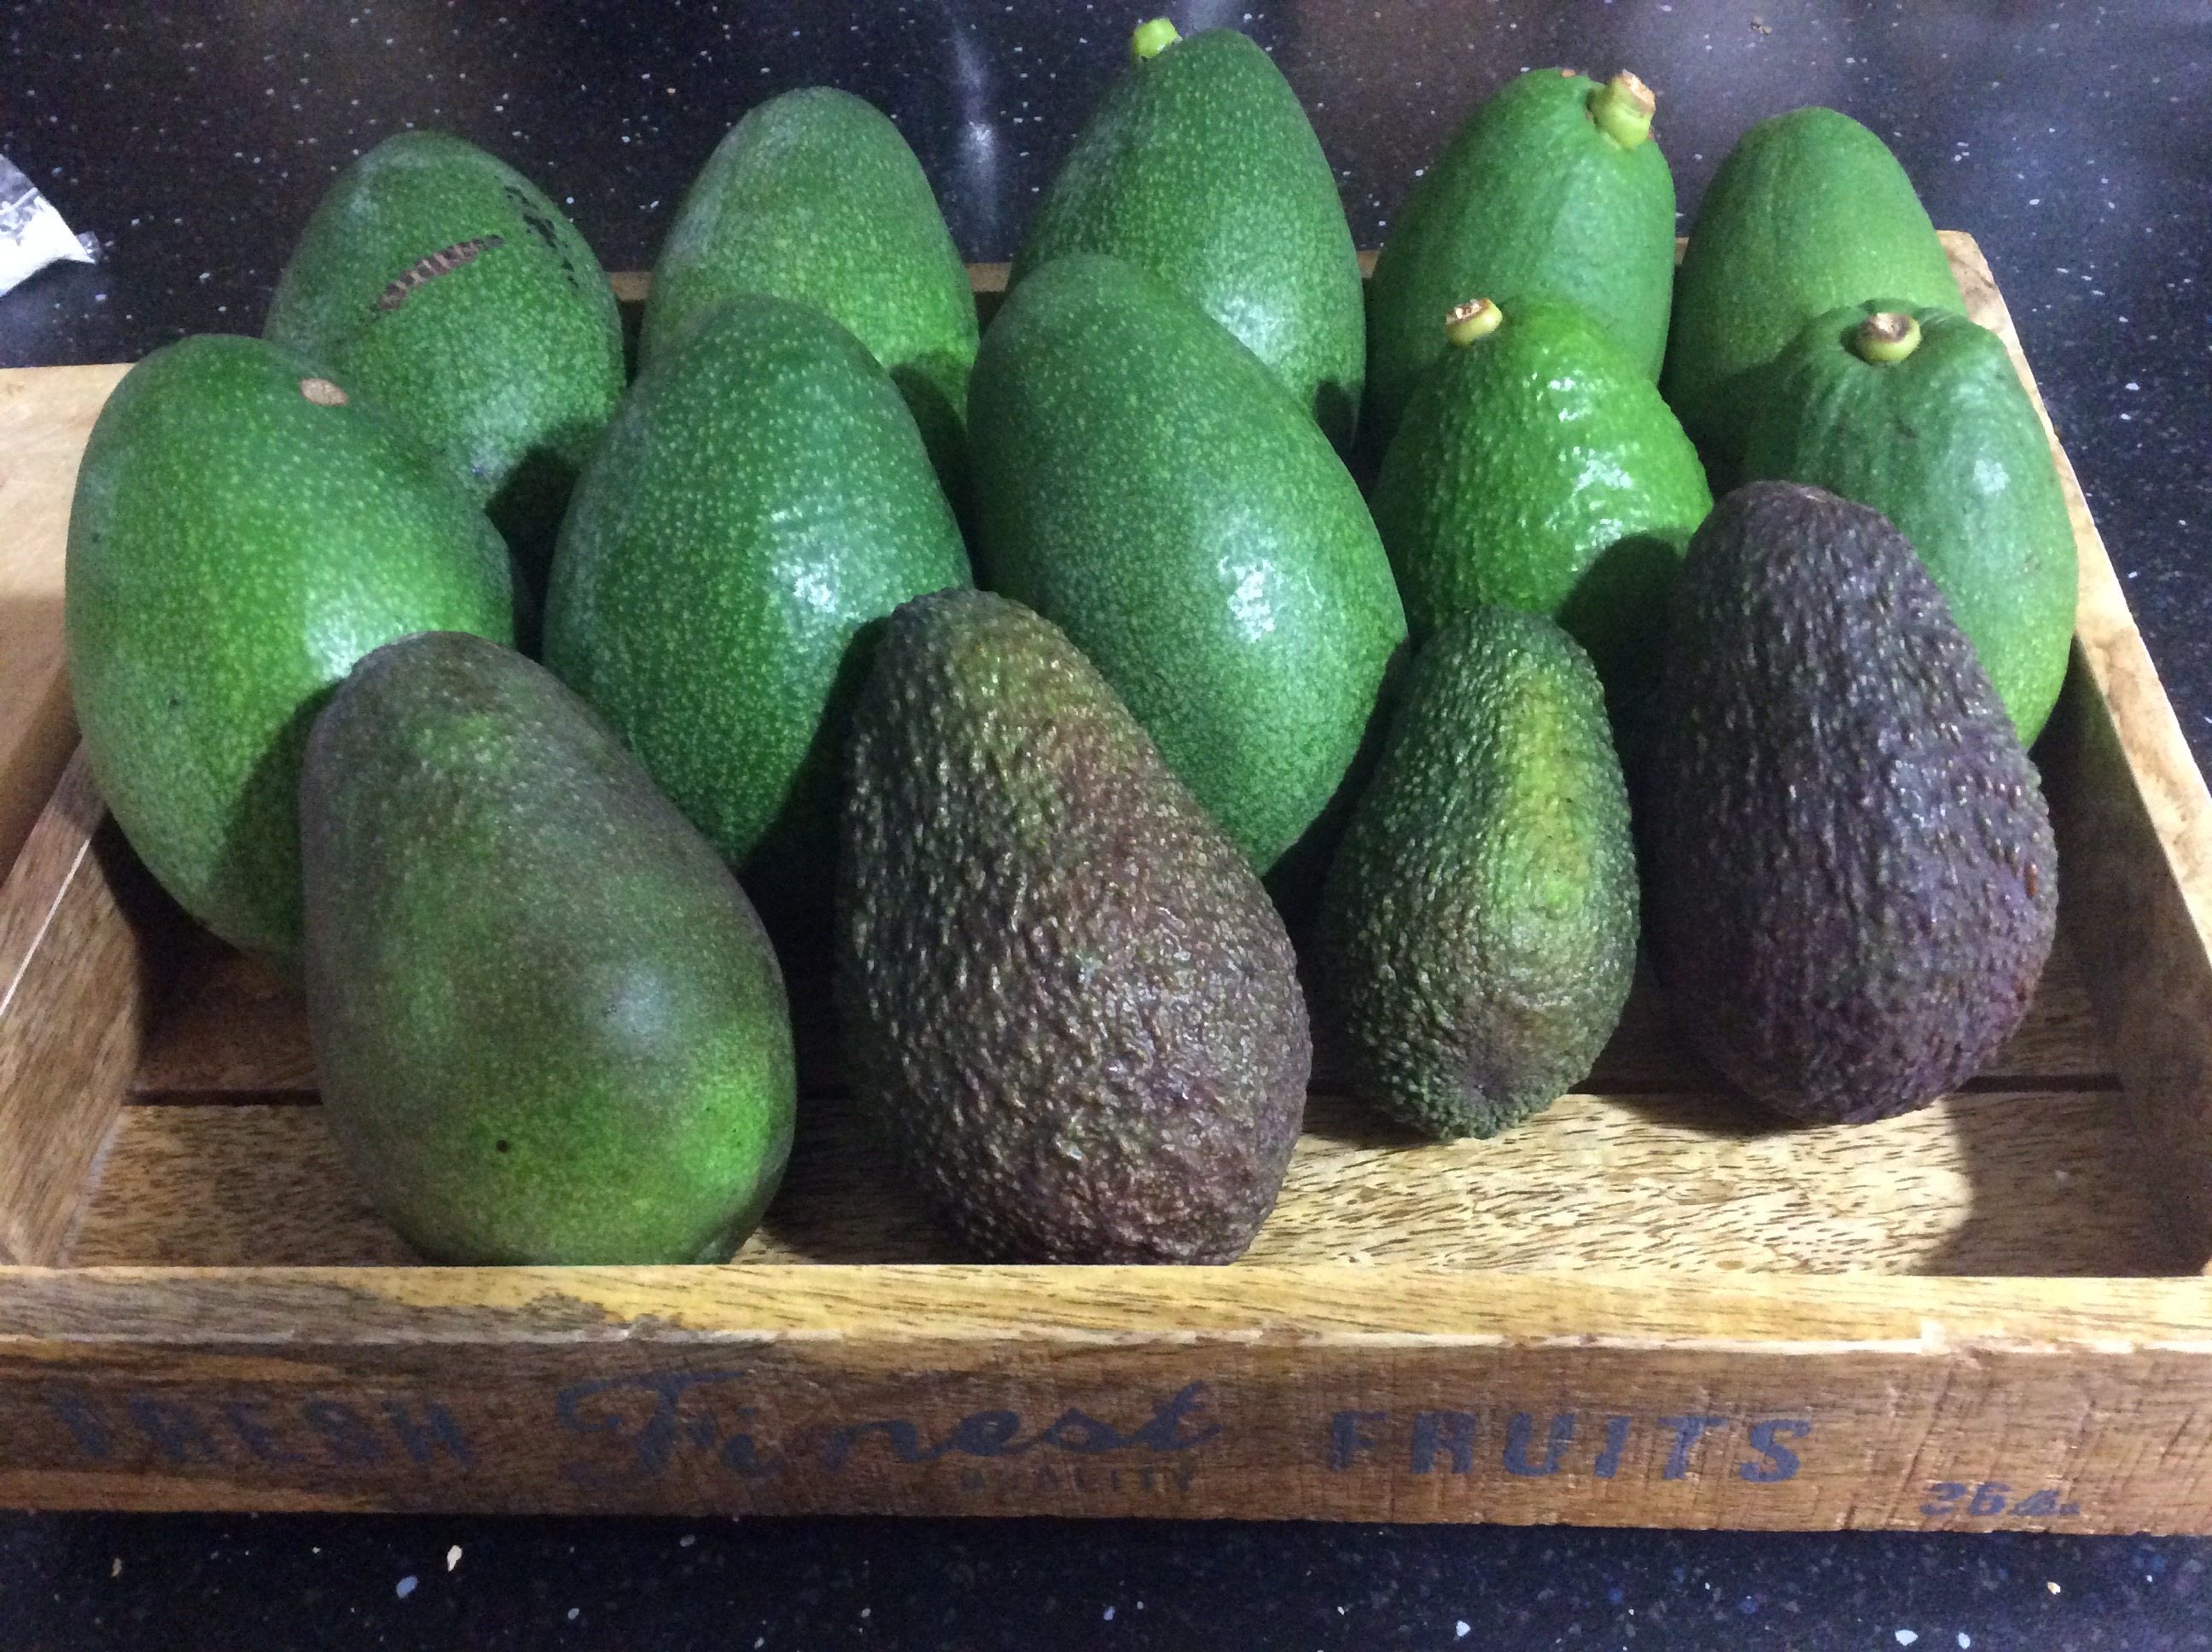fit_avocado: (1681, 481, 2071, 1116)
unfit_avocado: (239, 637, 788, 1244), (833, 635, 1313, 1258), (66, 309, 488, 921), (975, 241, 1397, 829), (593, 276, 956, 786), (661, 14, 1010, 416), (304, 128, 612, 519), (1810, 307, 2087, 635), (1417, 298, 1681, 595), (1735, 83, 1967, 418), (1457, 62, 1679, 356)
